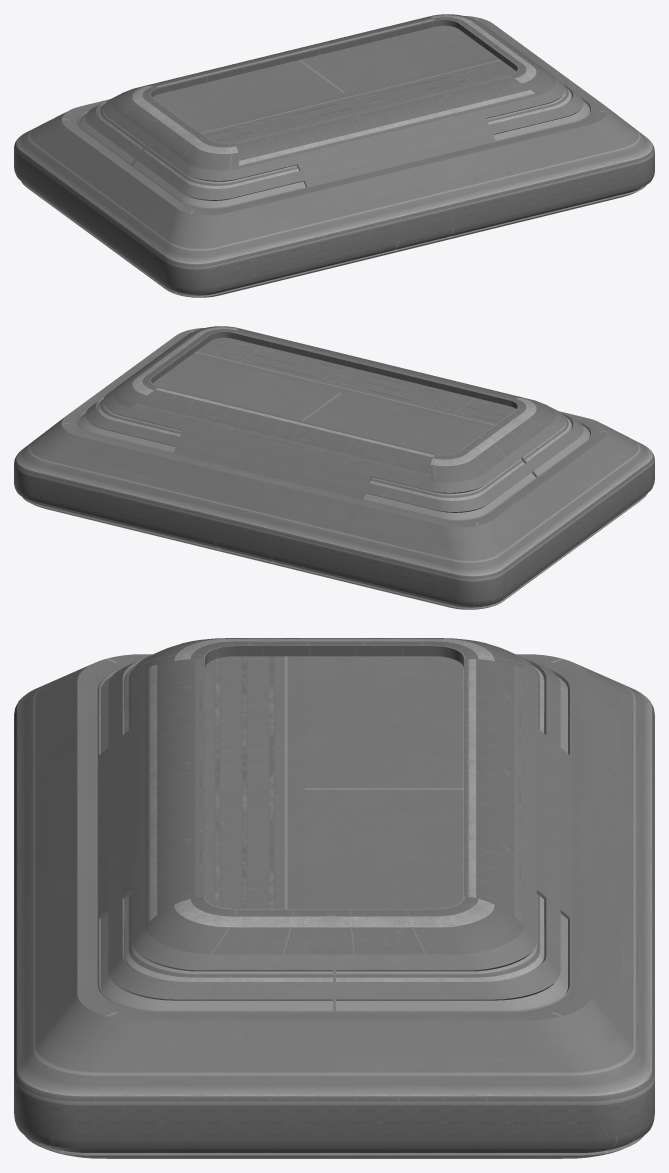
The model's file is SM_roof_01.glb.
The picture shows the model from 3 angles, top to bottom: view 1: azimuth 30°, elevation 25°; view 2: azimuth 150°, elevation 25°; view 3: azimuth 270°, elevation 25°; orthographic projection. The views are drawn at different scales.
Parts seen in each view (by area): view 1: SM_roof_01; view 2: SM_roof_01; view 3: SM_roof_01.
Part boxes in pixels (x1=…): SM_roof_01: x1=14, y1=14, x2=654, y2=297; SM_roof_01: x1=14, y1=326, x2=654, y2=609; SM_roof_01: x1=14, y1=638, x2=654, y2=1158.
Bounding box in the file's own units: 27.95 × 5.74 × 18.15.
1 material, 1 textured.
